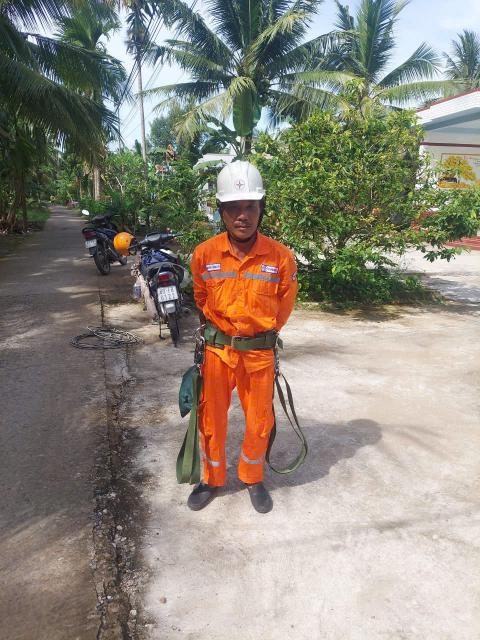harness: (199, 313, 286, 353)
helmet: (211, 161, 272, 201)
shoes: (237, 471, 283, 519), (184, 475, 227, 510)
